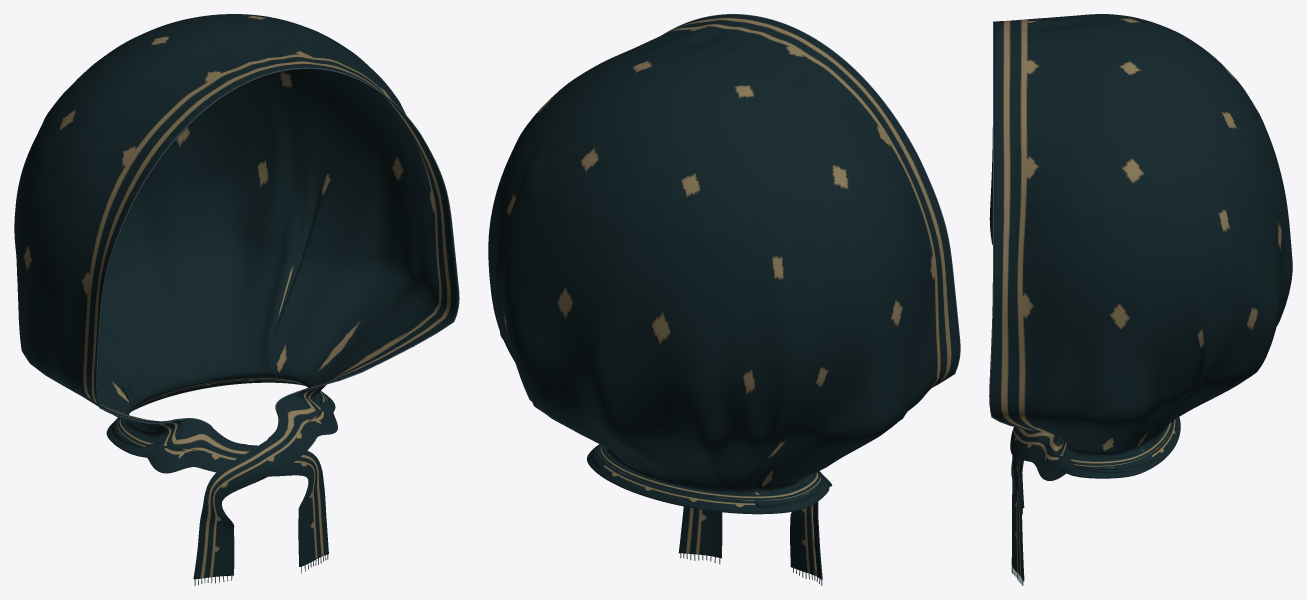
Rendered from Masculine-tshirt-pashmina242-headgear.glb.
The picture shows the model from 3 angles, left to right: view 1: azimuth 30°, elevation 25°; view 2: azimuth 150°, elevation 25°; view 3: azimuth 270°, elevation 25°; orthographic projection. The views are drawn at different scales.
Parts seen in each view (by area): view 1: 226 headgear / Headwear / continuous woven pashmina239, 226 headgear / Headwear / face edge239; view 2: 226 headgear / Headwear / continuous woven pashmina239, 226 headgear / Headwear / face edge239; view 3: 226 headgear / Headwear / continuous woven pashmina239, 226 headgear / Headwear / face edge239.
Part boxes in pixels (bbox=[...]): 226 headgear / Headwear / continuous woven pashmina239: bbox=[14, 14, 458, 579]; 226 headgear / Headwear / face edge239: bbox=[96, 67, 459, 426]; 226 headgear / Headwear / continuous woven pashmina239: bbox=[488, 14, 959, 579]; 226 headgear / Headwear / face edge239: bbox=[663, 14, 960, 387]; 226 headgear / Headwear / continuous woven pashmina239: bbox=[990, 14, 1292, 581]; 226 headgear / Headwear / face edge239: bbox=[989, 21, 1037, 431].
Bounding box in the file's own units: 1.03 × 1.35 × 0.7127.
3 materials, 1 textured.
